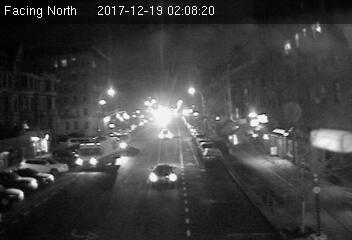car: (148, 161, 181, 190)
truck: (73, 138, 121, 172)
